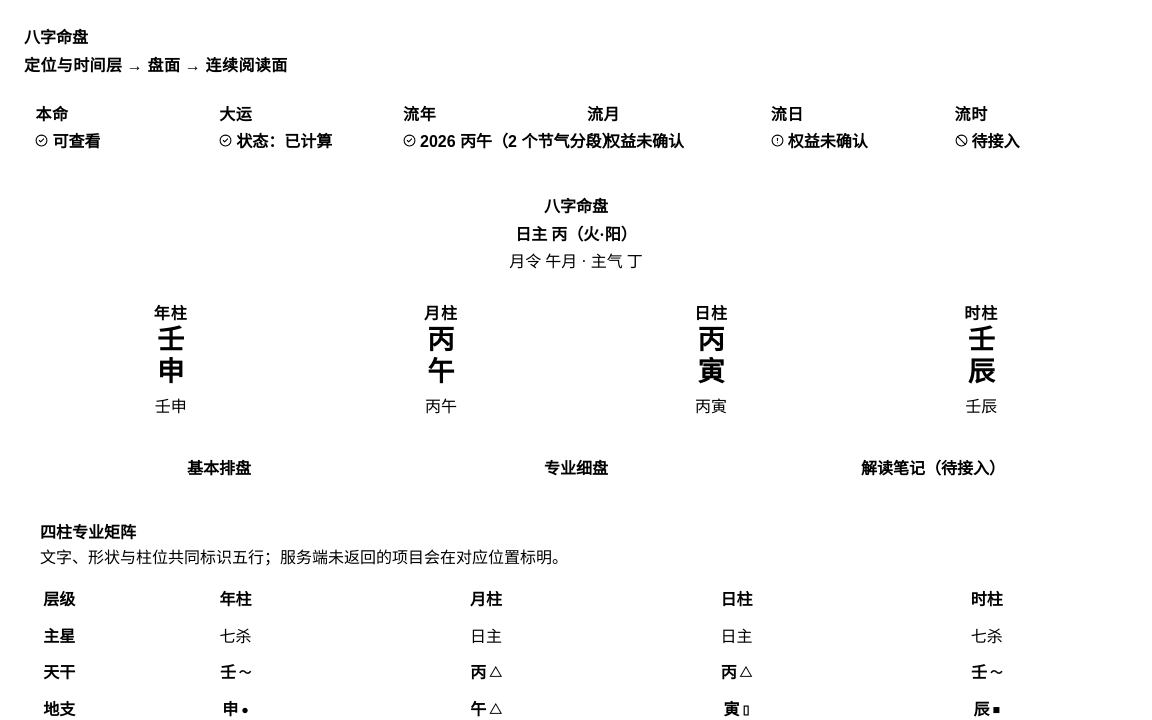
Test: BaziChart fact-density workspace › keeps paid layer facts out of the DOM when entitlement is absent
Click the tab "流月 权益未确认": (668,127) left=576, top=94, right=759, bottom=160
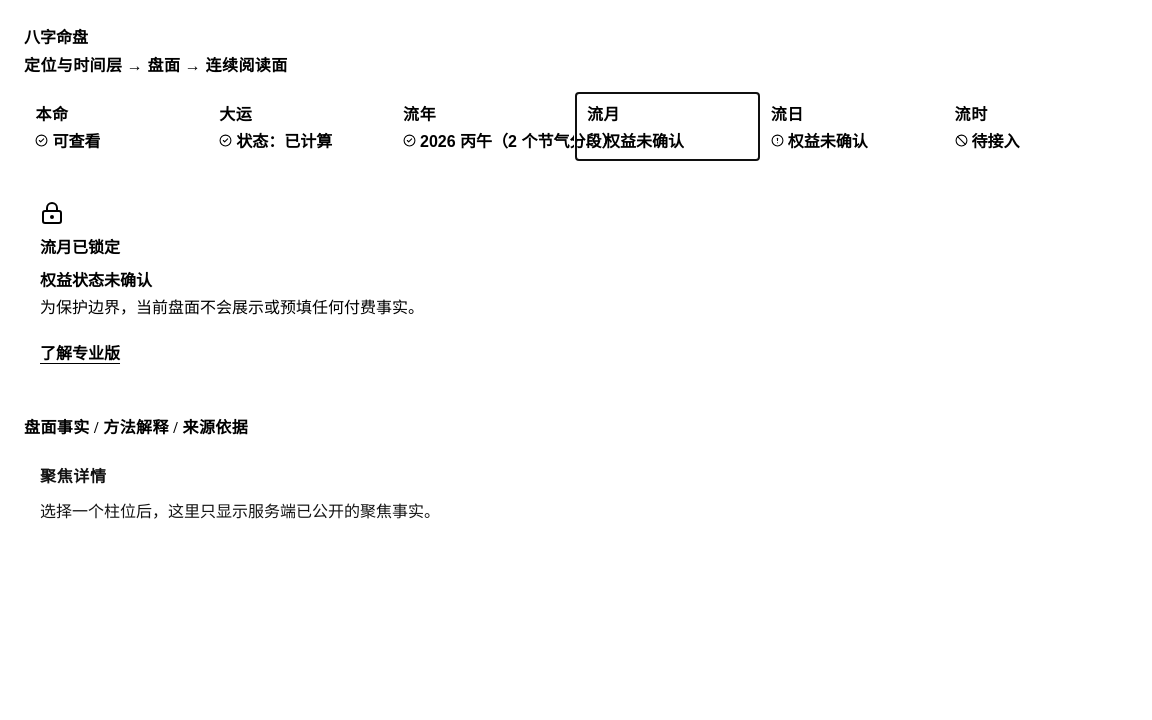
expect the heading "流月已锁定" is shown: met, box left=40, top=234, right=120, bottom=258
expect the text "权益状态未确认" is shown: met, box left=40, top=272, right=152, bottom=289
